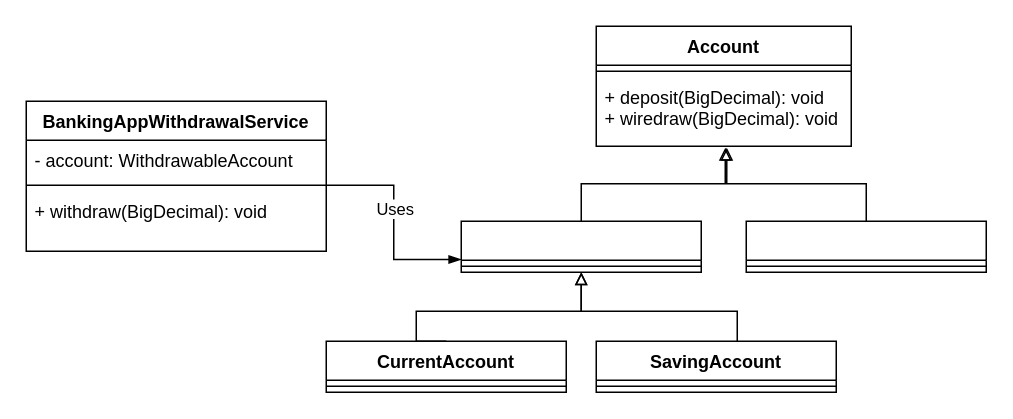
Some shapes in this 1013 by 419 pixel diagram are drawn without their labels. Here are the shapes that lost their labels. From the top down, the centre of each, then its label:
At point 580,246: "WithdrawableAccount".
At point 865,246: "FixedTermDepositAccount".
